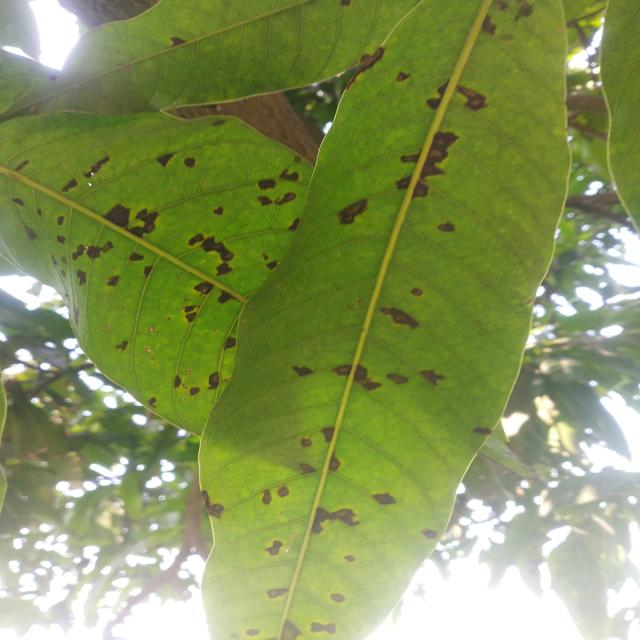Anthracnose: (385, 115, 465, 207), (326, 184, 385, 237), (337, 40, 389, 95), (376, 301, 423, 334), (346, 362, 383, 398), (194, 486, 229, 523), (452, 83, 491, 114), (82, 152, 112, 181), (417, 361, 447, 390), (264, 536, 287, 560), (273, 188, 299, 209), (155, 145, 178, 168), (385, 368, 410, 389), (480, 13, 500, 37), (310, 620, 338, 635), (266, 584, 291, 600), (59, 177, 80, 196), (320, 424, 339, 444), (286, 215, 304, 234), (279, 168, 301, 183), (372, 492, 397, 505), (471, 423, 494, 437), (275, 482, 292, 500), (258, 489, 275, 507), (420, 527, 441, 540), (329, 453, 342, 472), (168, 35, 187, 48), (299, 462, 318, 475), (292, 366, 315, 376), (437, 221, 456, 233), (258, 178, 277, 190), (410, 284, 425, 299), (395, 70, 412, 83), (329, 592, 347, 604), (187, 384, 202, 398), (343, 552, 357, 565), (223, 336, 236, 350), (183, 156, 196, 169), (245, 627, 260, 637), (300, 436, 313, 447)
